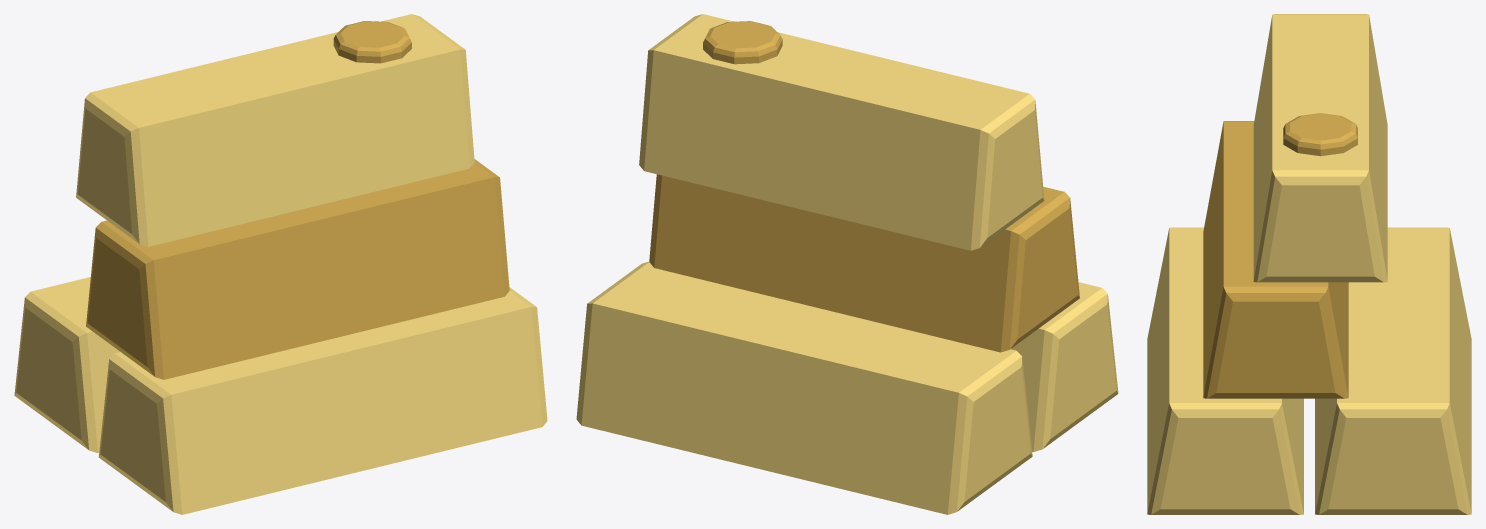
Rendered from game-ui-icon-library-gold-bar-stack-3bcbc45a__18972.glb.
The picture shows the model from 3 angles, left to right: view 1: azimuth 30°, elevation 25°; view 2: azimuth 150°, elevation 25°; view 3: azimuth 270°, elevation 25°; orthographic projection. The views are drawn at different scales.
Parts seen in each view (by area): view 1: gold-bar-stack; view 2: gold-bar-stack; view 3: gold-bar-stack.
Boxes of the visible parts, x1,y1,x2,y2 form: gold-bar-stack: [14, 14, 547, 514]; gold-bar-stack: [576, 14, 1118, 514]; gold-bar-stack: [1147, 14, 1471, 514].
Size of the model in its own units: 0.98 by 0.8607 by 0.7287.
